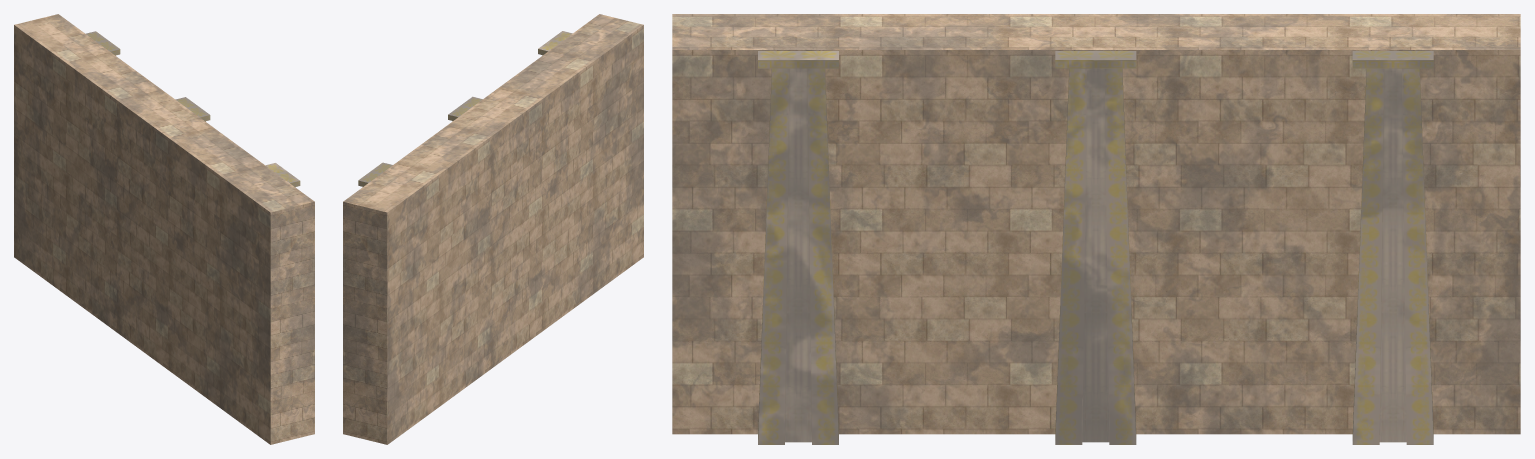
Rendered from SM_wall_10x20.gltf.
3 views of the same model, side by side, from view 1: azimuth 30°, elevation 25°; view 2: azimuth 150°, elevation 25°; view 3: azimuth 270°, elevation 25° (orthographic). The views are drawn at different scales.
Visible parts, largest first — view 1: SM_wall_10x20; view 2: SM_wall_10x20; view 3: SM_wall_10x20.
Boxes of the visible parts, <box> form: SM_wall_10x20: <box>14,14,314,444</box>; SM_wall_10x20: <box>343,14,643,444</box>; SM_wall_10x20: <box>672,14,1520,444</box>.
Size of the model in its own units: 2.66 by 10 by 20.
Materials: 2 (2 with a texture image).
